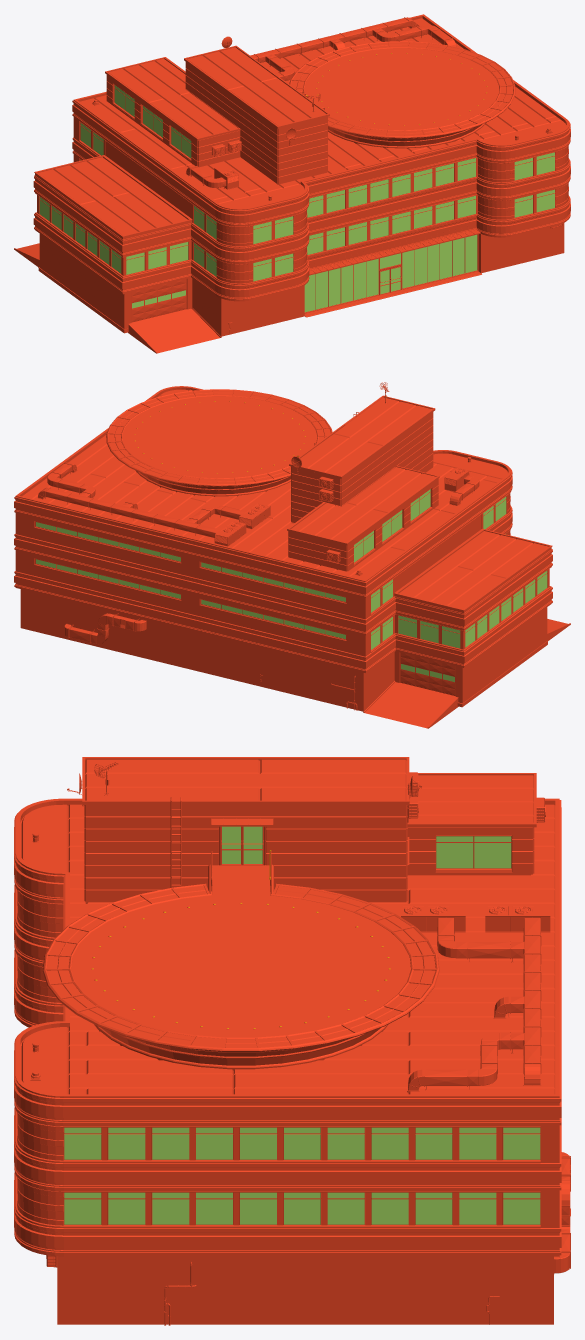
File: SM_Hospital_City.fbx
3 renders of one model, top to bottom at view 1: azimuth 30°, elevation 25°; view 2: azimuth 150°, elevation 25°; view 3: azimuth 270°, elevation 25°, orthographic. The views are drawn at different scales.
Parts seen in each view (by area): view 1: SM_Hospital_City_Base; view 2: SM_Hospital_City_Base; view 3: SM_Hospital_City_Base.
Part boxes in pixels (x1=…): SM_Hospital_City_Base: x1=14, y1=14, x2=570, y2=353; SM_Hospital_City_Base: x1=14, y1=382, x2=570, y2=728; SM_Hospital_City_Base: x1=14, y1=757, x2=570, y2=1325.
Bounding box in the file's own units: 39.21 × 18.56 × 25.8.
